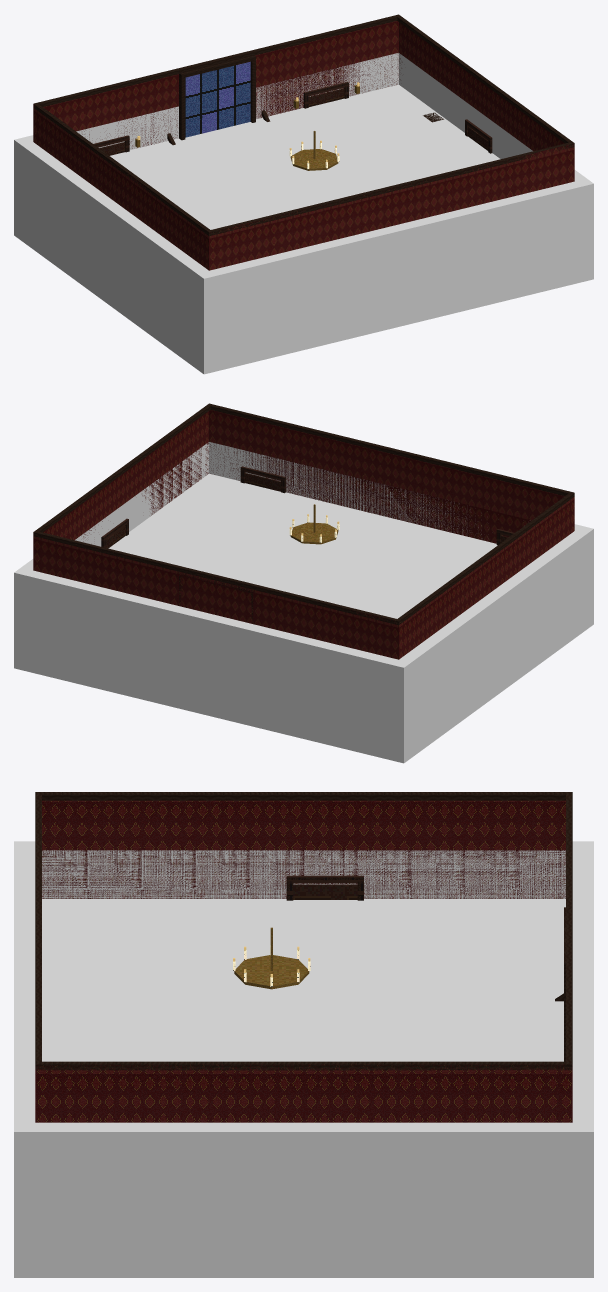
File: hall.glb
3 views of the same model, one above another, from view 1: azimuth 30°, elevation 25°; view 2: azimuth 150°, elevation 25°; view 3: azimuth 270°, elevation 25° (orthographic). The views are drawn at different scales.
Visible parts, largest first — view 1: COL_Wall_S, Room_Shell, COL_Wall_W, TRG_CAM_4, TRG_CAM_3, COL_Wall_N, Window_N, COL_Wall_E, COL_Stairs, Molding_N, Molding_S, Molding_W (+3 smaller); view 2: Room_Shell, COL_Wall_N, COL_Wall_W, TRG_CAM_2, TRG_CAM_1, COL_Wall_S, TRG_CAM_4, COL_Wall_E, TRG_CAM_3, Molding_N, Molding_S, Molding_W (+2 smaller); view 3: COL_Wall_E, Room_Shell, TRG_CAM_3, TRG_CAM_1, COL_Wall_W, COL_Wall_N, COL_Wall_S, COL_Stairs, TRG_CAM_2, TRG_CAM_4, Molding_E, Molding_W (+5 smaller).
Part boxes in pixels (x1=…): COL_Wall_S: x1=197, y1=178, x2=593, y2=374; Room_Shell: x1=33, y1=21, x2=574, y2=270; COL_Wall_W: x1=21, y1=142, x2=208, y2=368; TRG_CAM_4: x1=213, y1=84, x2=496, y2=202; TRG_CAM_3: x1=110, y1=128, x2=320, y2=227; COL_Wall_N: x1=14, y1=53, x2=398, y2=240; Window_N: x1=185, y1=61, x2=250, y2=137; COL_Wall_E: x1=399, y1=53, x2=586, y2=181; COL_Stairs: x1=167, y1=118, x2=306, y2=167; Molding_N: x1=33, y1=14, x2=400, y2=108; Molding_S: x1=207, y1=141, x2=574, y2=236; Molding_W: x1=35, y1=104, x2=209, y2=234; Room_Shell: x1=33, y1=410, x2=574, y2=659; COL_Wall_N: x1=14, y1=567, x2=410, y2=763; COL_Wall_W: x1=399, y1=531, x2=586, y2=757; TRG_CAM_2: x1=132, y1=473, x2=392, y2=569; TRG_CAM_1: x1=316, y1=517, x2=497, y2=600; COL_Wall_S: x1=209, y1=442, x2=593, y2=629; TRG_CAM_4: x1=108, y1=530, x2=326, y2=593; COL_Wall_E: x1=21, y1=442, x2=208, y2=570; TRG_CAM_3: x1=284, y1=568, x2=421, y2=618; Molding_N: x1=33, y1=530, x2=400, y2=625; Molding_S: x1=207, y1=403, x2=574, y2=497; Molding_W: x1=398, y1=493, x2=572, y2=623; COL_Wall_E: x1=35, y1=1122, x2=572, y2=1277; Room_Shell: x1=35, y1=800, x2=572, y2=1122; TRG_CAM_3: x1=250, y1=899, x2=565, y2=1030; TRG_CAM_1: x1=42, y1=899, x2=271, y2=1030; COL_Wall_W: x1=42, y1=850, x2=565, y2=898; COL_Wall_N: x1=572, y1=841, x2=593, y2=1277; COL_Wall_S: x1=14, y1=841, x2=35, y2=1277; COL_Stairs: x1=449, y1=998, x2=563, y2=1061; TRG_CAM_2: x1=42, y1=1030, x2=271, y2=1061; TRG_CAM_4: x1=250, y1=1030, x2=448, y2=1061; Molding_E: x1=42, y1=1061, x2=565, y2=1070; Molding_W: x1=42, y1=792, x2=565, y2=800.
Size of the model in its own units: 12.8 by 4.21 by 10.8.
22 materials, 22 textured.
